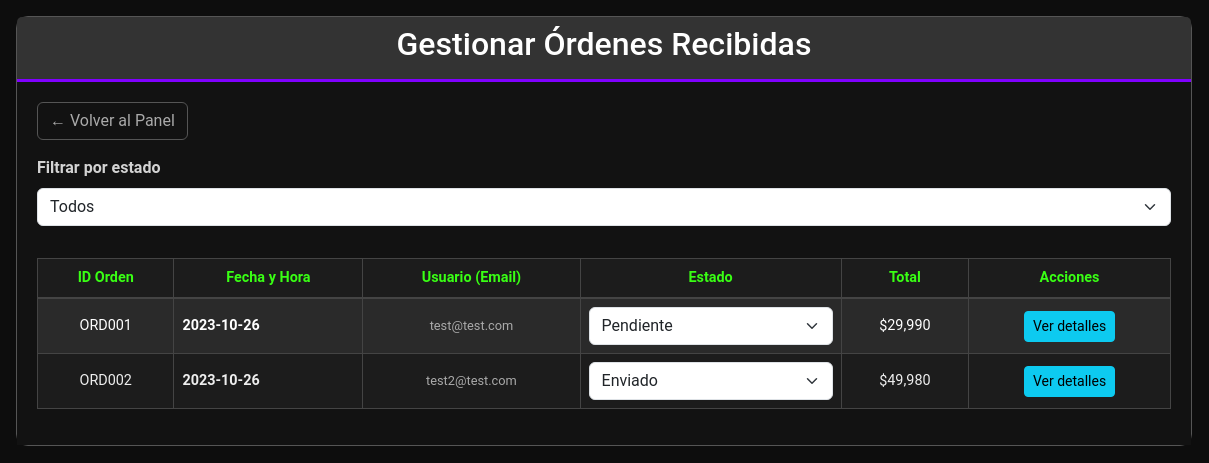
Test: Gestión de Órdenes › filtra órdenes por estado
Seleccionar filtro "Pendiente"
Select "Pendiente" in the dropdown labelled "Filtrar por estado" at (604, 207), box [37, 188, 1171, 226]
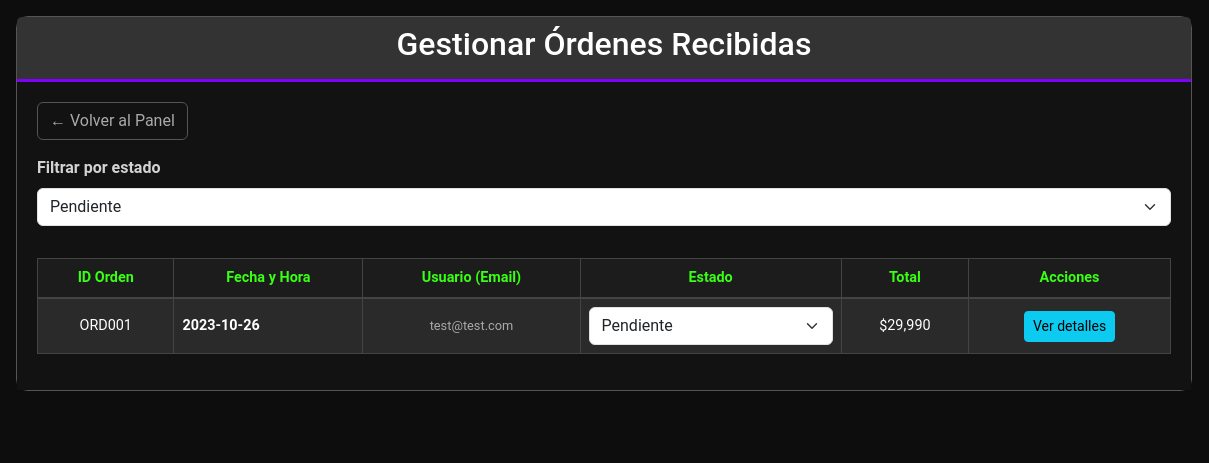
Expected: the text "ORD001" is shown, [38, 298, 174, 354]
Expected: the text "ORD002" is gone
